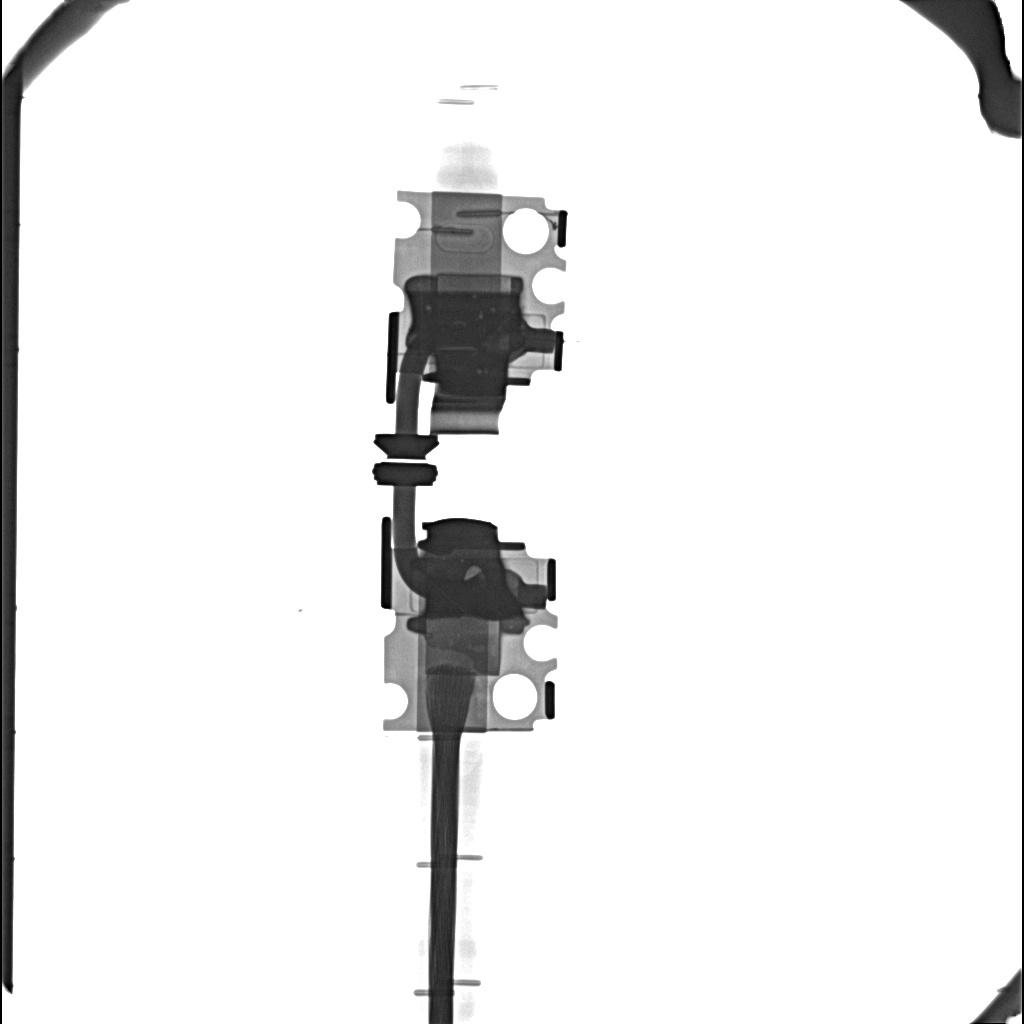defect: (410, 292, 521, 346), (424, 620, 502, 677), (426, 581, 520, 620), (435, 273, 513, 291), (464, 565, 481, 580)
